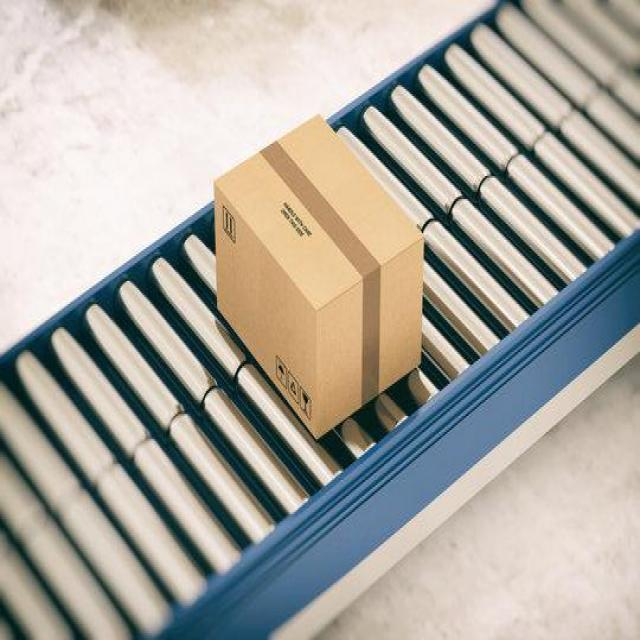box: (209, 111, 425, 445)
